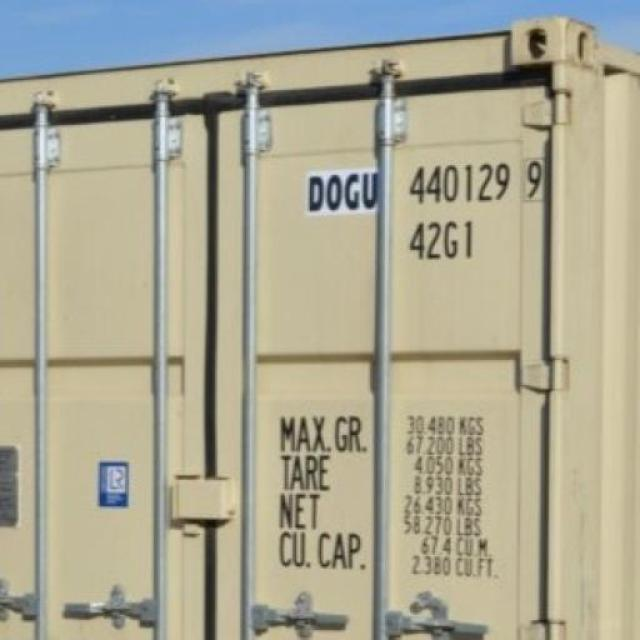ISO: (410, 216, 474, 257)
container_number: (302, 158, 554, 216)
